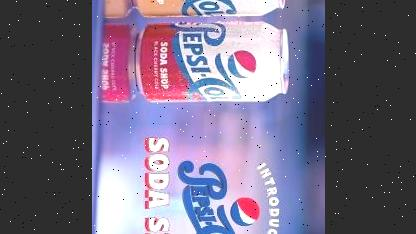Can: (133, 20, 289, 102), (127, 0, 286, 18)
